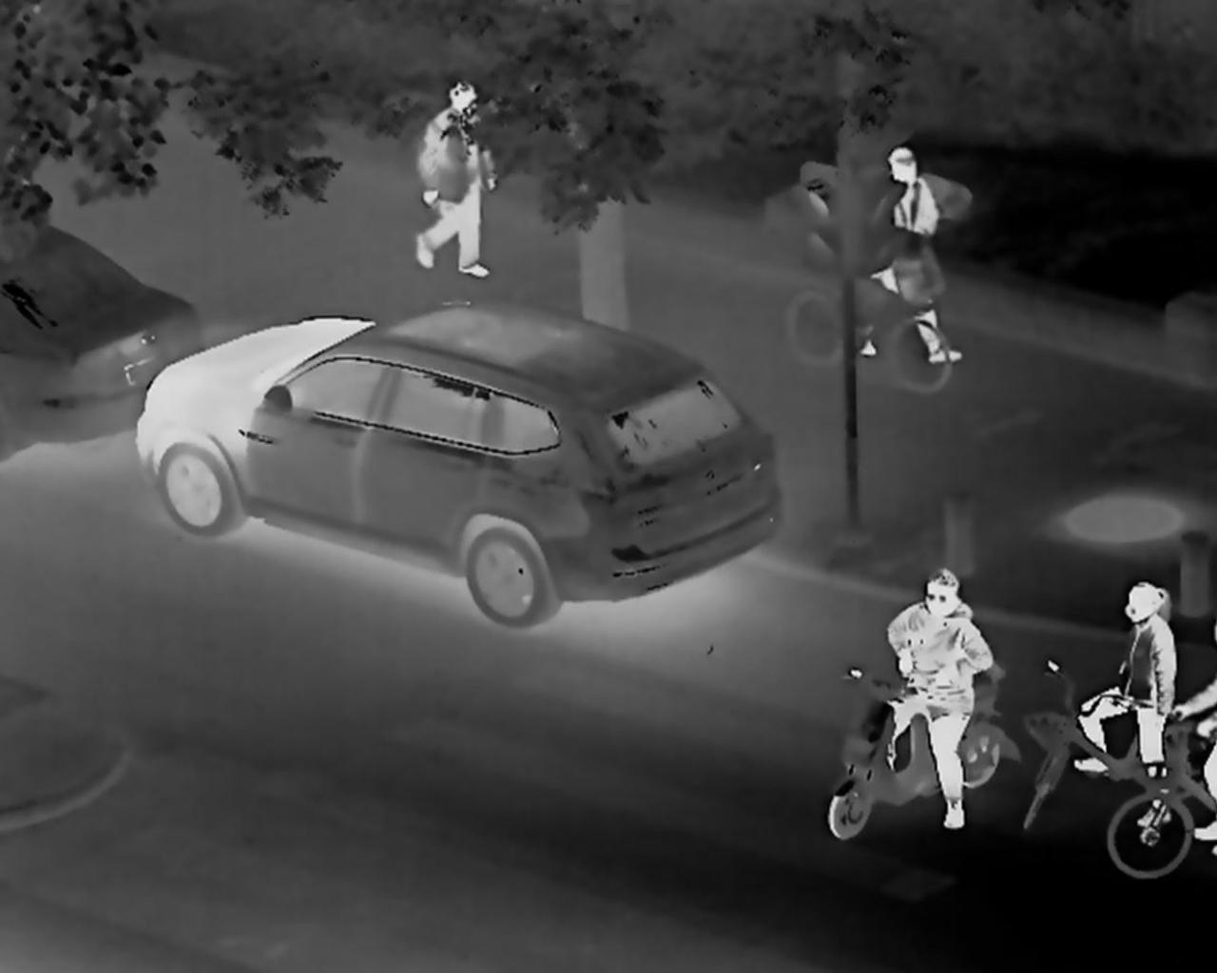person: (880, 570, 997, 827), (1066, 576, 1180, 829), (855, 147, 964, 364), (410, 78, 496, 284)
